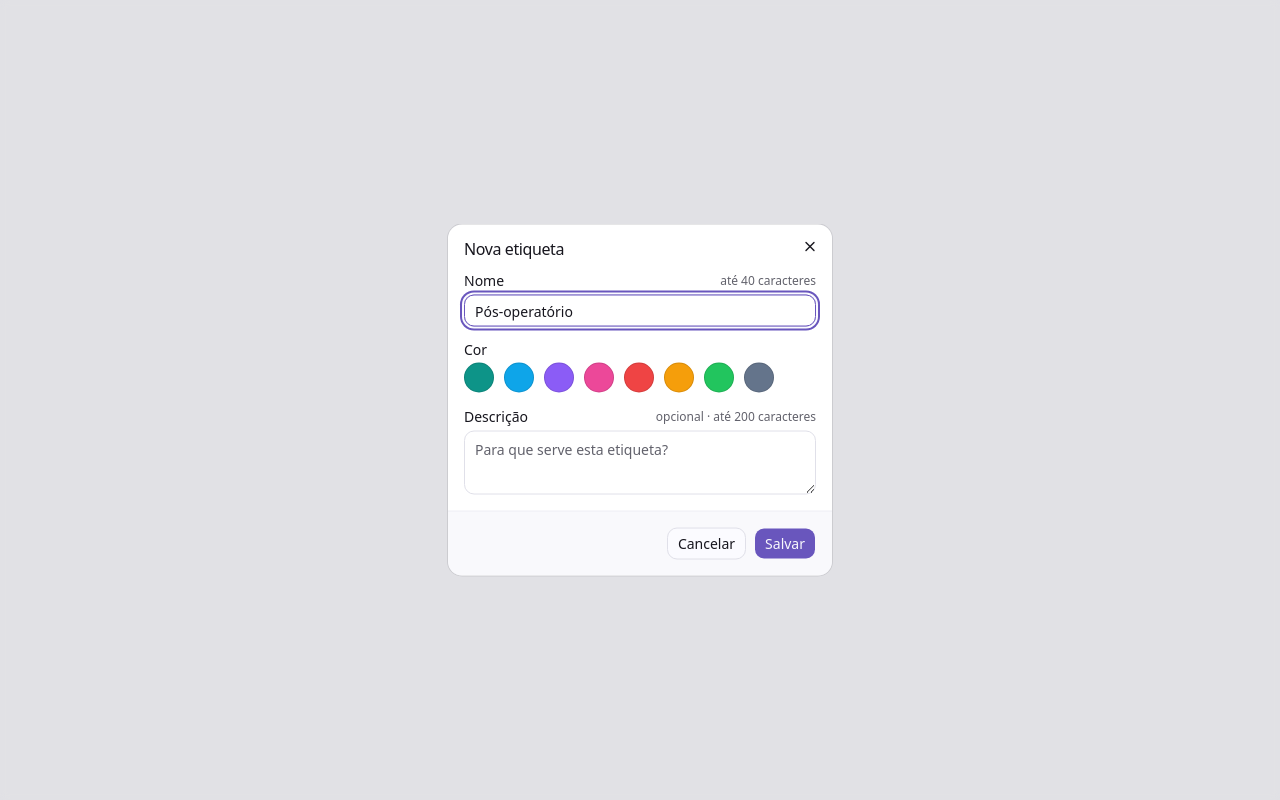
Test: TagCreationDialog › shows a duplicate name tied to the name field under it
Check: the field labelled "Nome" is shown, box [464,294,816,326]
What coordinates should you click on to do the following:
click the radio button named "Azul"
I would click on:
 (519, 378)
Its box is [504,362,534,392].
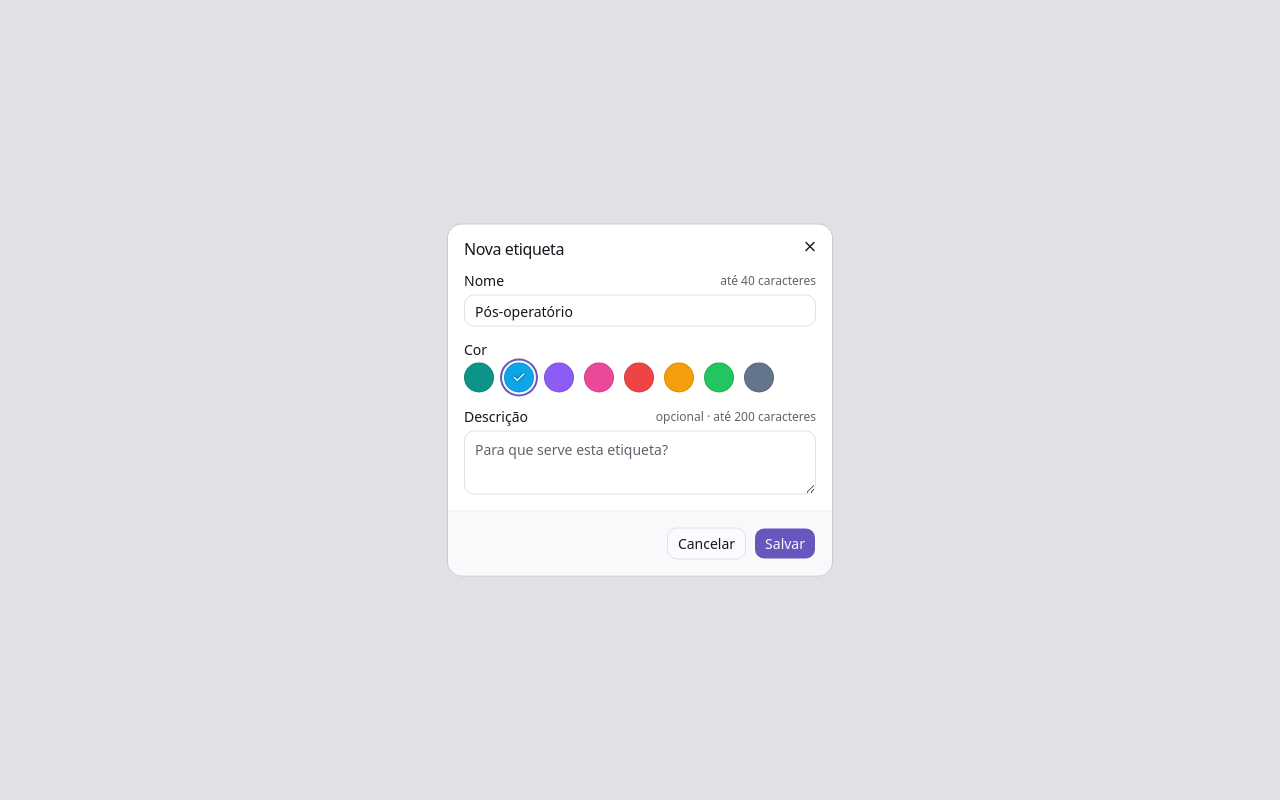
What coordinates should you click on to do the following:
click the button "Salvar"
I would click on:
 (785, 544)
Its box is [754,528,816,560].
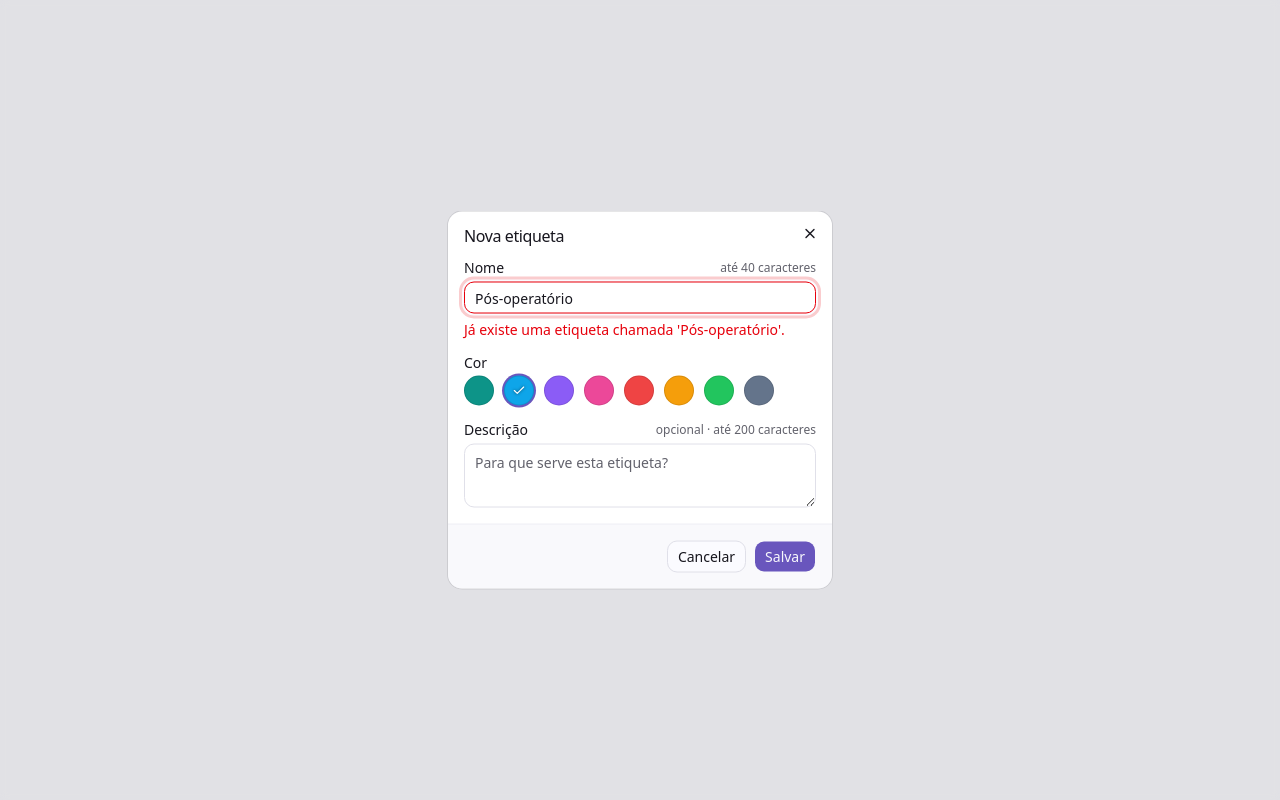
Check: the field labelled "Nome" holds "Pós-operatório", box [464,282,816,314]
Check: the text "Já existe uma etiqueta chamada 'Pós-operatório'." is shown, box [464,320,816,340]
